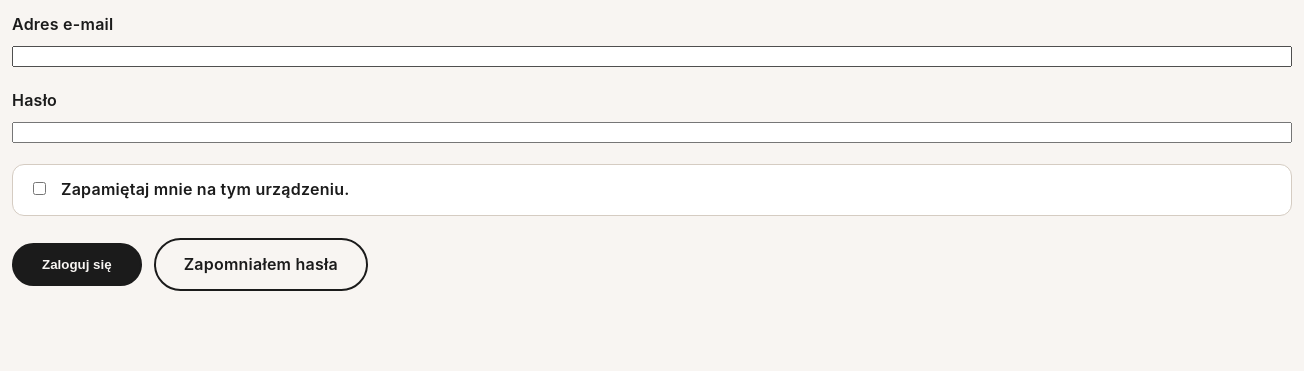
it: AccountLoginForm › logs the user in after providing valid credentials
Step 1. Type "klient@example.com" into the field labelled "Adres e-mail" → x=652, y=56, box [12,46,1292,67]
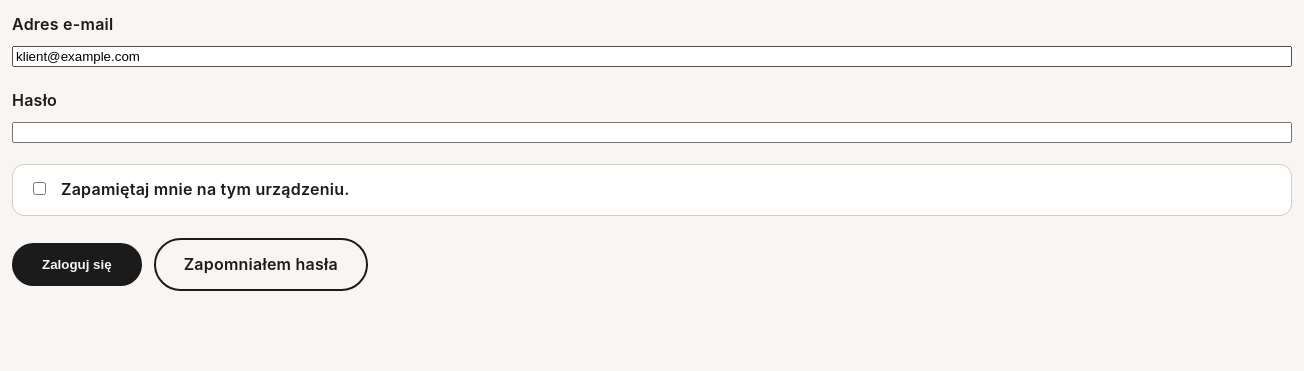
Step 2. Type "tajnehaslo" into the password field labelled "Hasło" → x=652, y=132, box [12,122,1292,143]
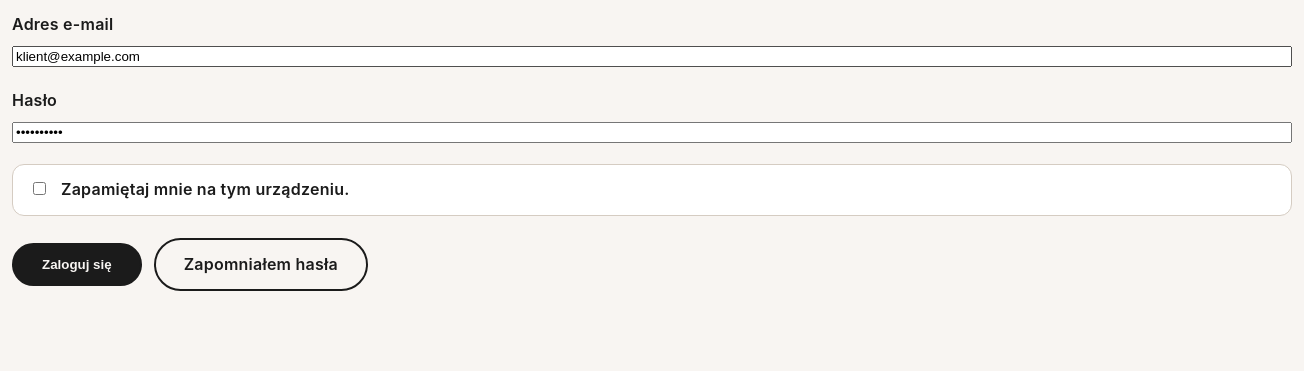
Step 3. Click the button "Zaloguj się" → x=77, y=264, box [12,243,142,286]
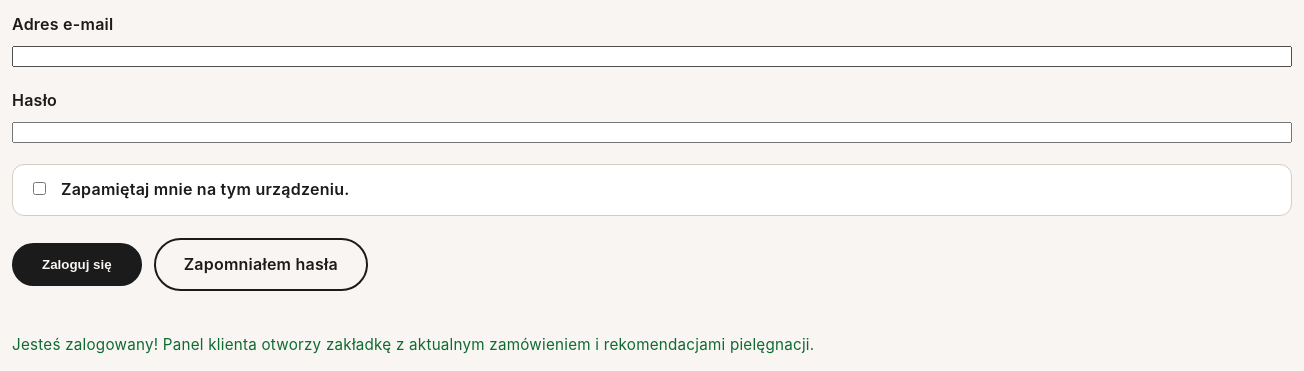
Expected: the text "Jesteś zalogowany! Panel klienta otworzy zakładkę z aktualnym zamówieniem" is shown, [12,335,814,354]
